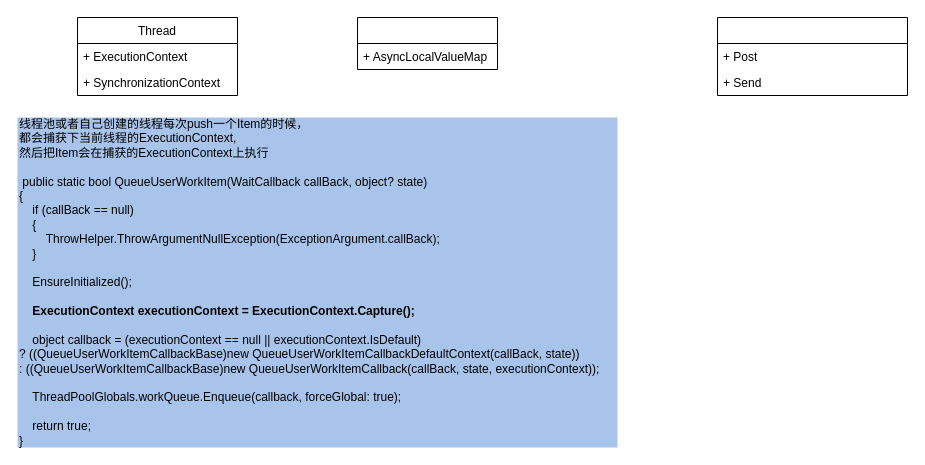
The diagram is 925 pixels wide and 465 high, and some of its shapes have lost their labels. Each missing label, with the box of its shape:
Execution: (356, 16, 498, 70)
SynchronizationContext: (716, 16, 908, 96)
